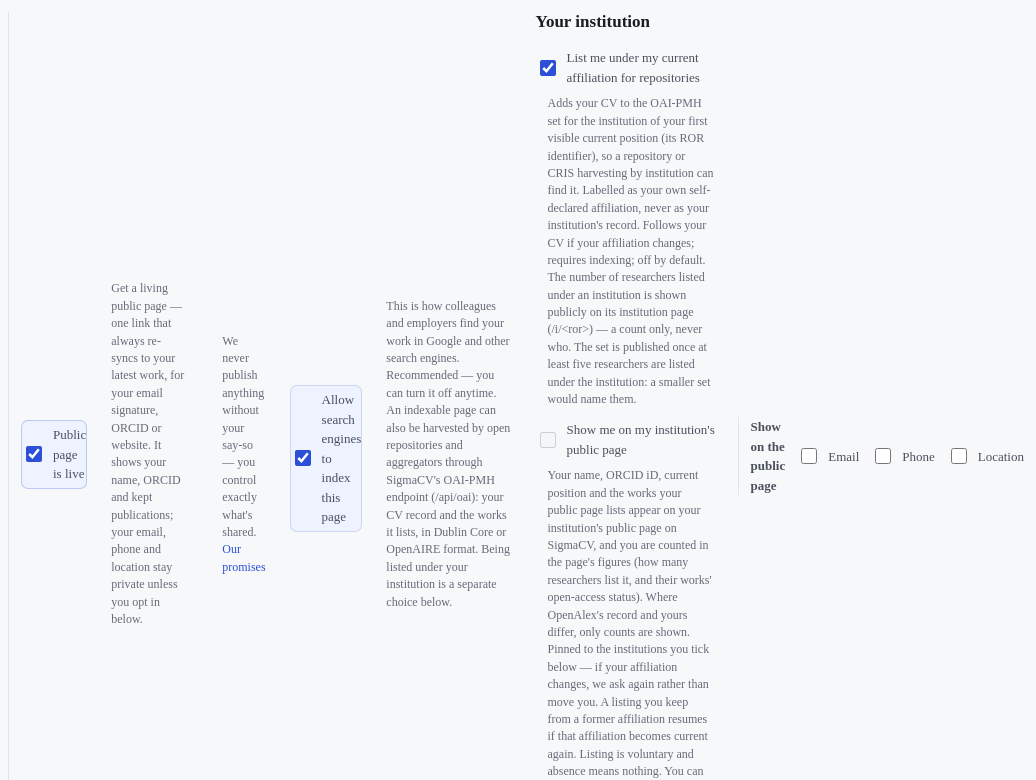
PublishControls — list under my current affiliation › turning indexing off turns the affiliation listing off in the same request
Check: the checkbox labelled "List me under my current affiliation for repositories" is checked, box [540,60,556,76]
What coordinates should you click on to do the following:
click the checkbox labelled "Allow search engines to index this page"
I would click on:
 (303, 458)
Its box is [295,450,311,466].
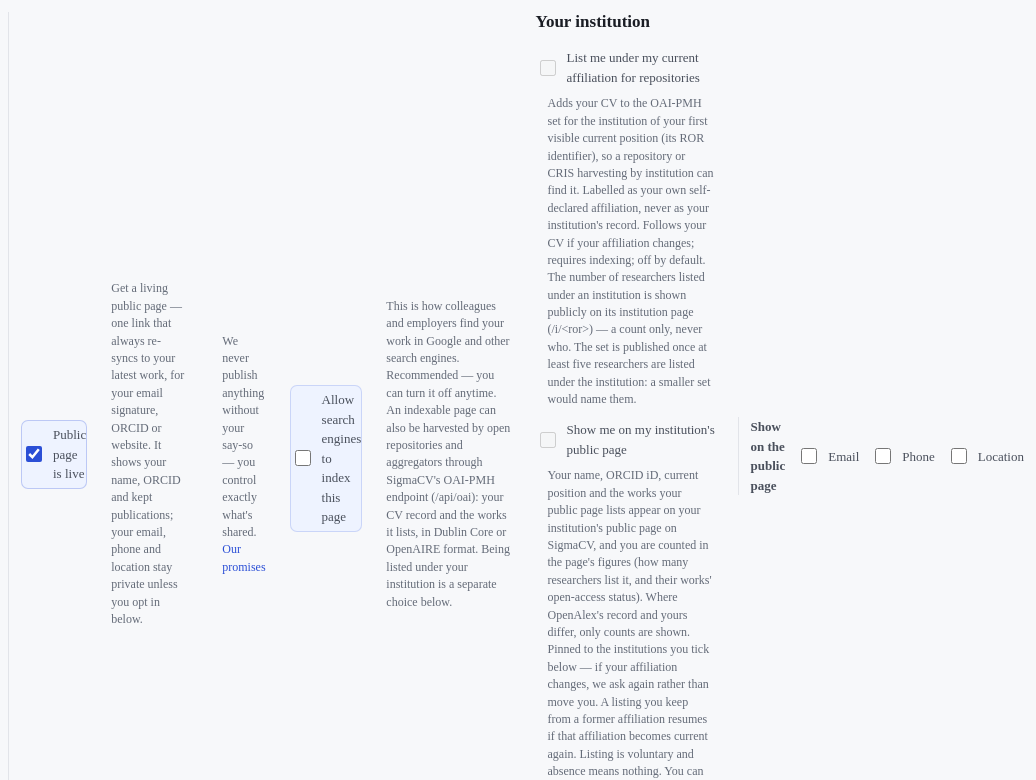
Check: the checkbox labelled "List me under my current affiliation for repositories" is not checked, box [540,60,556,76]
Check: the checkbox labelled "List me under my current affiliation for repositories" is disabled, box [540,60,556,76]
